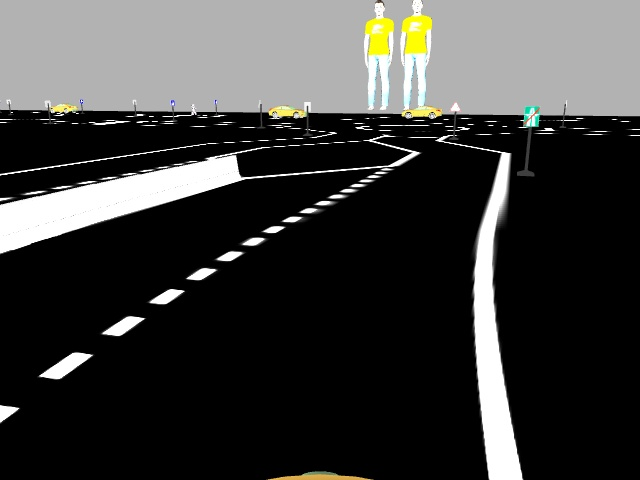HighwayExit: (524, 103, 540, 126)
